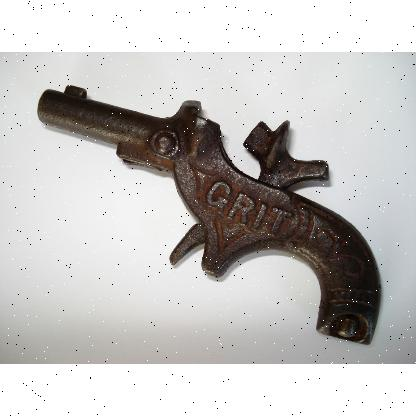gun: (39, 80, 381, 344)
